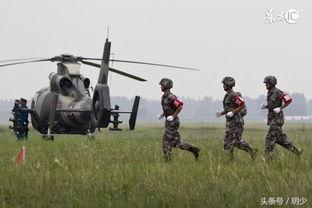up: (148, 72, 204, 171), (209, 70, 255, 171), (257, 72, 301, 170)
